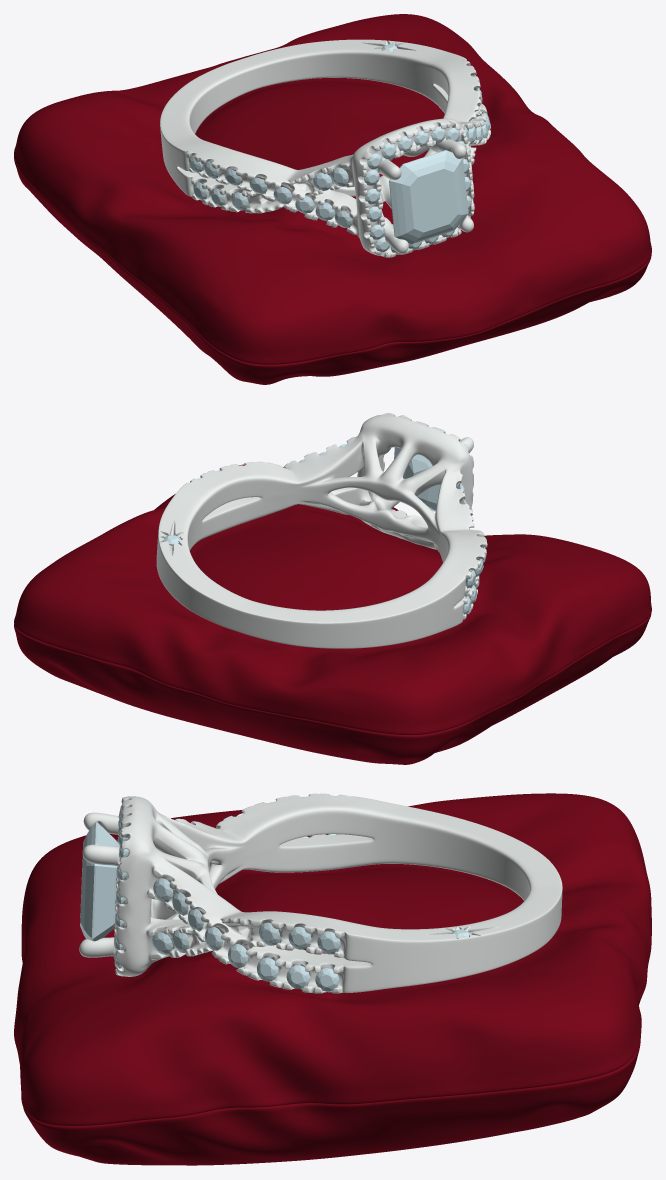
The picture shows the model from 3 angles, top to bottom: view 1: azimuth 30°, elevation 25°; view 2: azimuth 150°, elevation 25°; view 3: azimuth 270°, elevation 25°; orthographic projection. The views are drawn at different scales.
Visible parts, largest first — view 1: pillow, ring, diamonds; view 2: pillow, ring, diamonds; view 3: pillow, ring, diamonds.
Boxes of the visible parts, bbox=[...] form: pillow: bbox=[14, 14, 651, 384]; ring: bbox=[160, 39, 490, 257]; diamonds: bbox=[188, 44, 490, 253]; pillow: bbox=[14, 464, 651, 764]; ring: bbox=[156, 413, 487, 648]; diamonds: bbox=[164, 444, 486, 614]; pillow: bbox=[14, 793, 651, 1165]; ring: bbox=[79, 793, 562, 993]; diamonds: bbox=[80, 796, 471, 991].
Size of the model in its own units: 7.56 by 3.55 by 7.71.
